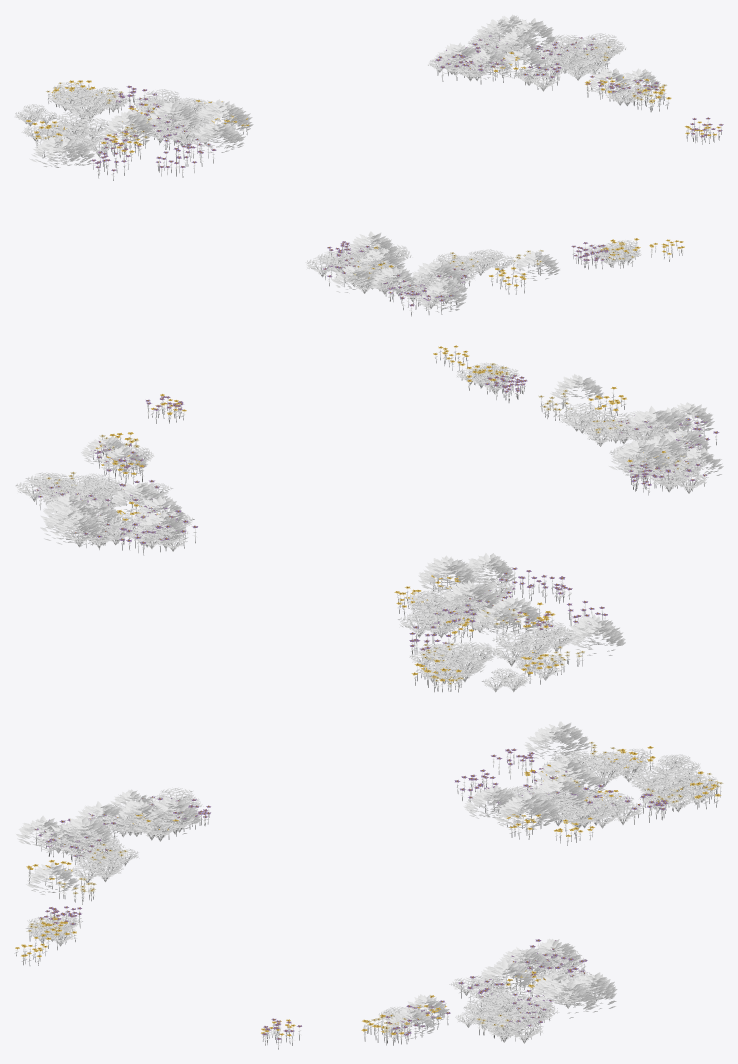
The model's file is SM_DF_Nature_3_0_Flora.fbx.
3 renders of one model, top to bottom at view 1: azimuth 30°, elevation 25°; view 2: azimuth 150°, elevation 25°; view 3: azimuth 270°, elevation 25°, orthographic. The views are drawn at different scales.
Parts seen in each view (by area): view 1: SM_DF_Nature_3_0_Flora; view 2: SM_DF_Nature_3_0_Flora; view 3: SM_DF_Nature_3_0_Flora.
Part boxes in pixels (x1=…): SM_DF_Nature_3_0_Flora: x1=14, y1=14, x2=723, y2=316; SM_DF_Nature_3_0_Flora: x1=15, y1=345, x2=723, y2=692; SM_DF_Nature_3_0_Flora: x1=14, y1=721, x2=723, y2=1049.
Bounding box in the file's own units: 2568 × 2531 × 206.
